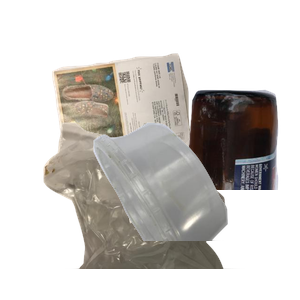glass: (87, 87, 300, 267)
paper: (49, 51, 235, 212)
plastic: (91, 120, 300, 300)
trash: (41, 120, 276, 300)
